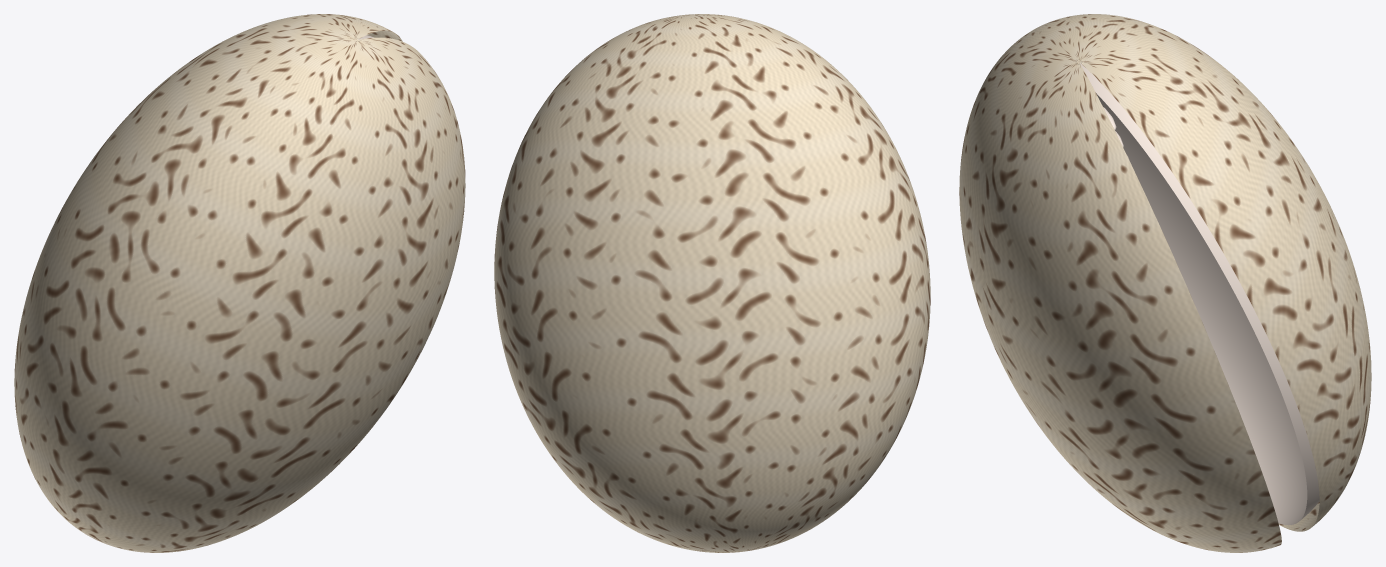
The model's file is cowrie.glb.
The picture shows the model from 3 angles, left to right: view 1: azimuth 30°, elevation 25°; view 2: azimuth 150°, elevation 25°; view 3: azimuth 270°, elevation 25°; orthographic projection. The views are drawn at different scales.
Parts seen in each view (by area): view 1: cowrie.001; view 2: cowrie.001; view 3: cowrie.001.
Boxes of the visible parts, x1,y1,x2,y2 form: cowrie.001: (14,14,465,552); cowrie.001: (494,14,930,552); cowrie.001: (959,14,1371,552).
Bounding box in the file's own units: 1.61 × 1.9 × 1.33.
Materials: 42 (1 with a texture image).
